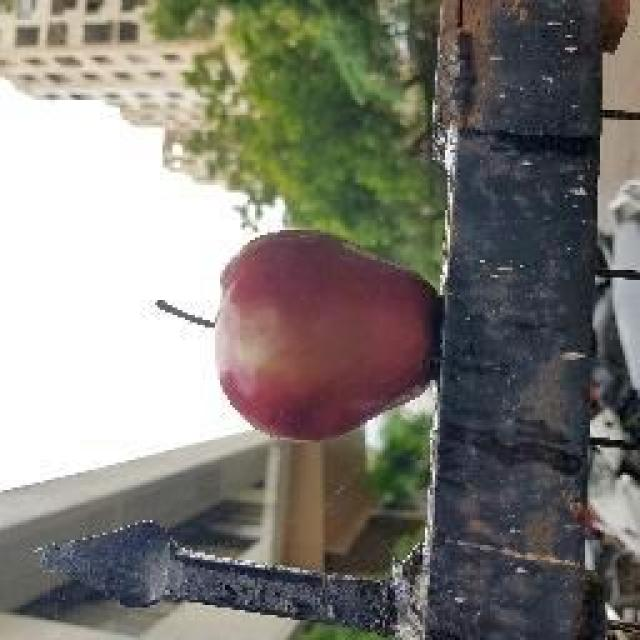Good_Apple: (212, 230, 440, 445)
